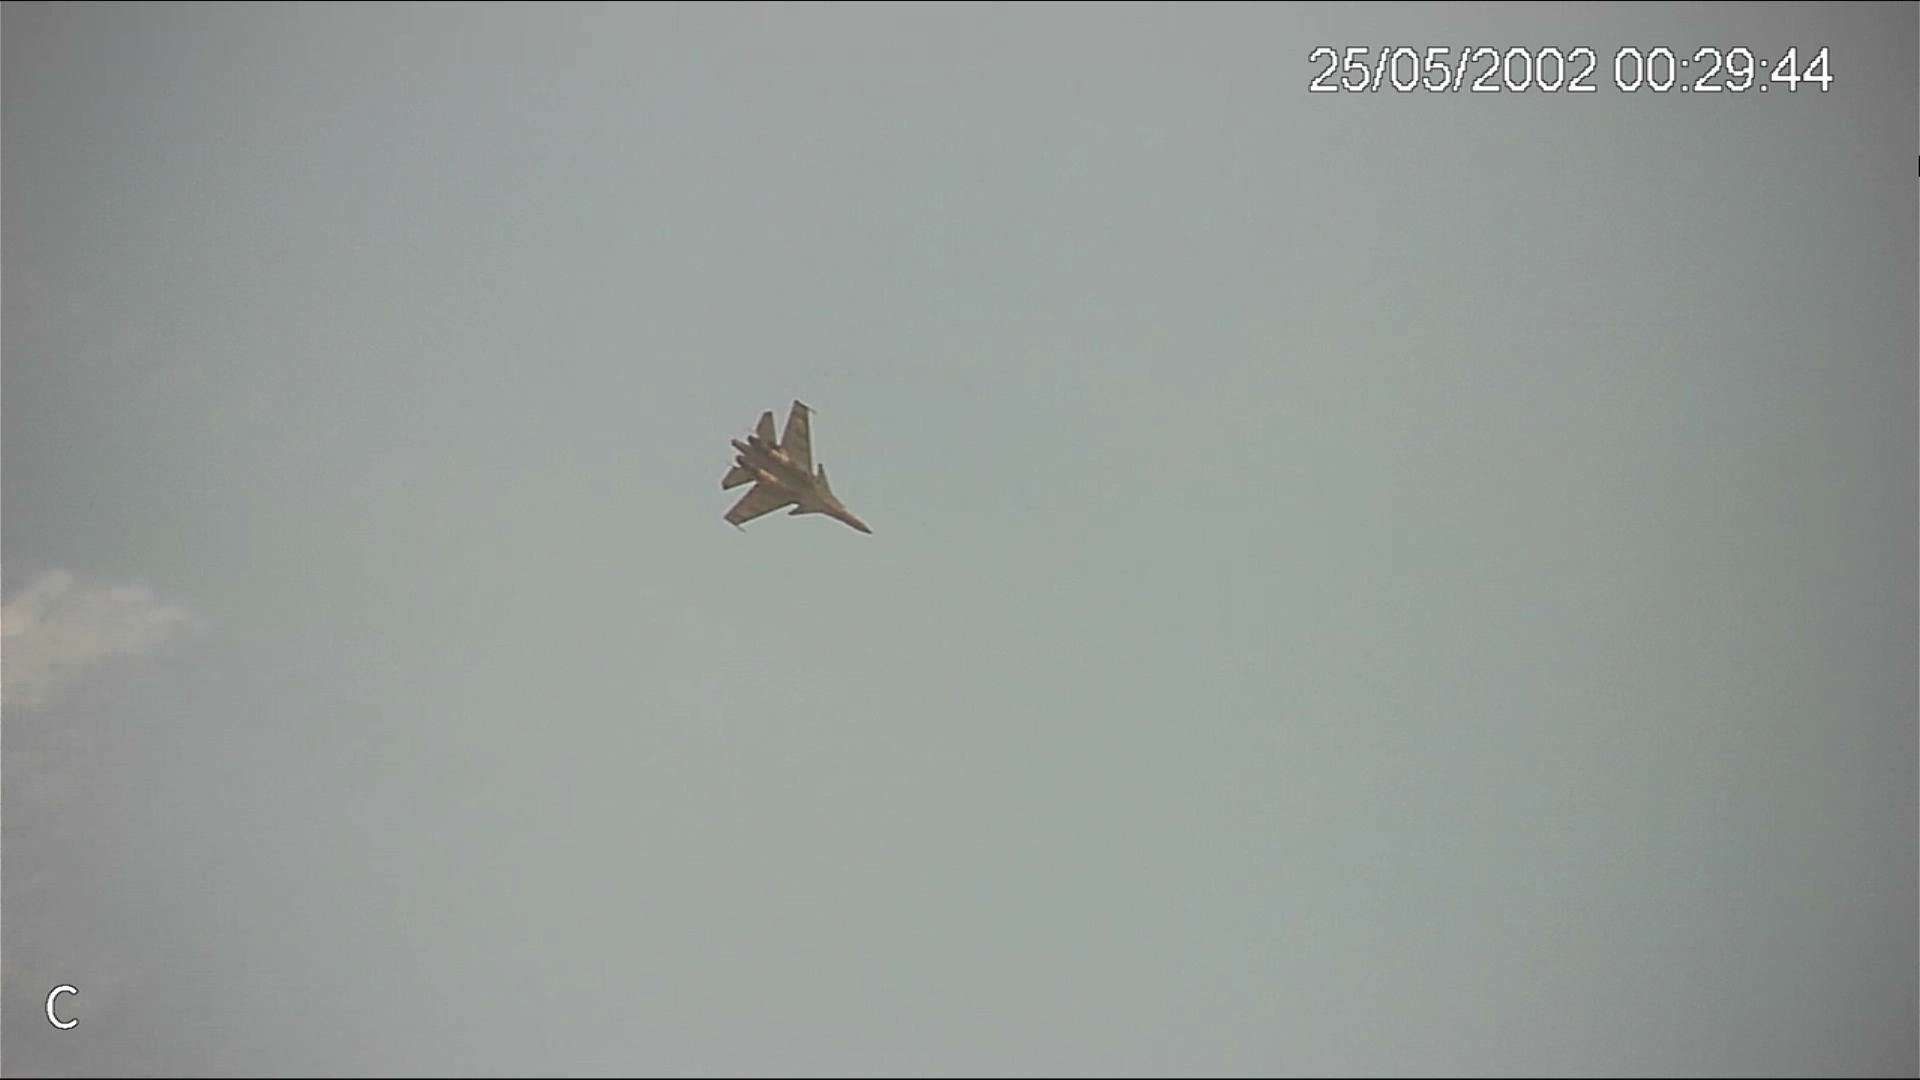SU_30: (717, 396, 880, 541)
